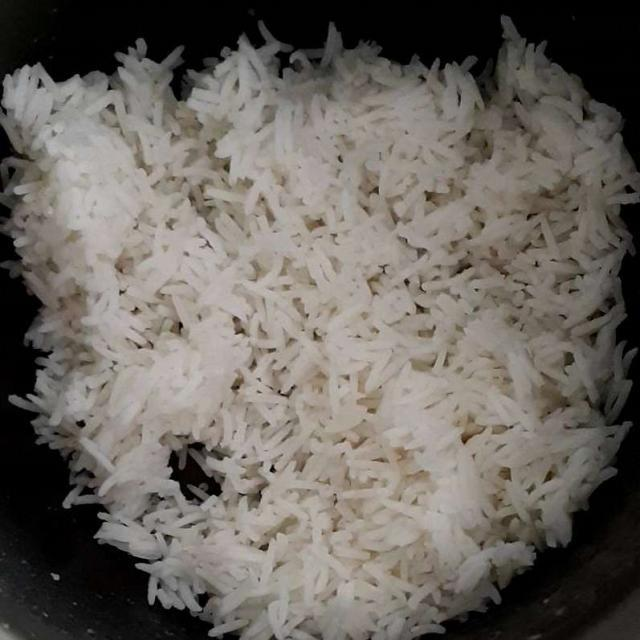rice: (11, 42, 624, 634)
